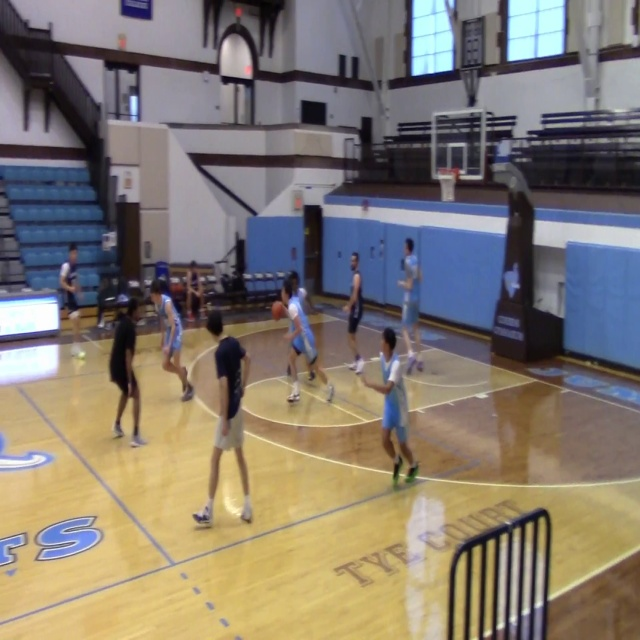Basketball: (271, 301, 283, 321), (77, 351, 86, 359), (342, 306, 350, 313)
